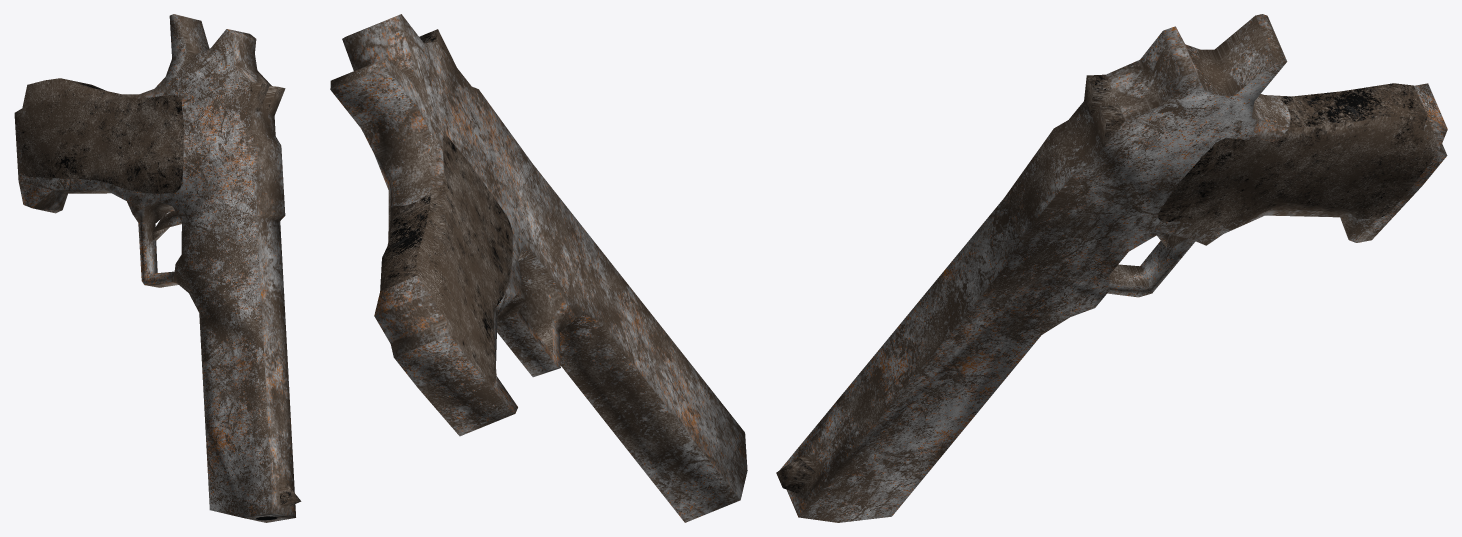
The model's file is Anim_disparar_pistola_objetos.0030.obj.
3 views of the same model, side by side, from view 1: azimuth 30°, elevation 25°; view 2: azimuth 150°, elevation 25°; view 3: azimuth 270°, elevation 25° (orthographic). The views are drawn at different scales.
Visible parts, largest first — view 1: Pistola1; view 2: Pistola1; view 3: Pistola1.
Part boxes in pixels (left/top/right/bottom): Pistola1: left=14, top=14, right=301, bottom=522; Pistola1: left=330, top=14, right=747, bottom=522; Pistola1: left=776, top=14, right=1447, bottom=522.
Size of the model in its own units: 0.6664 by 1.41 by 1.55.
